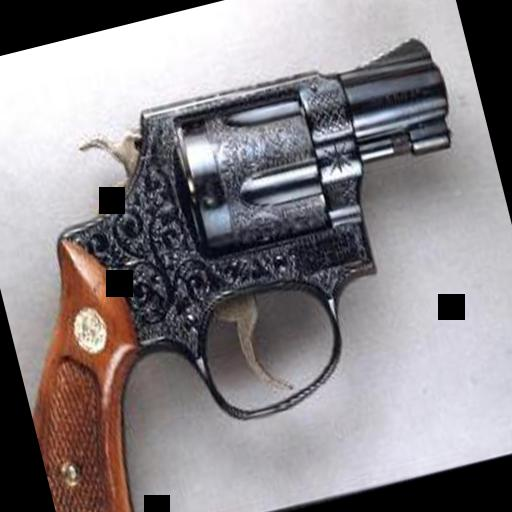Handgun: (0, 27, 512, 512)
